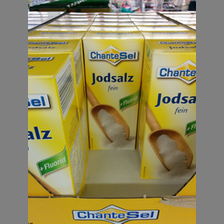spices: (138, 35, 197, 180), (28, 53, 82, 196), (82, 28, 143, 152)
